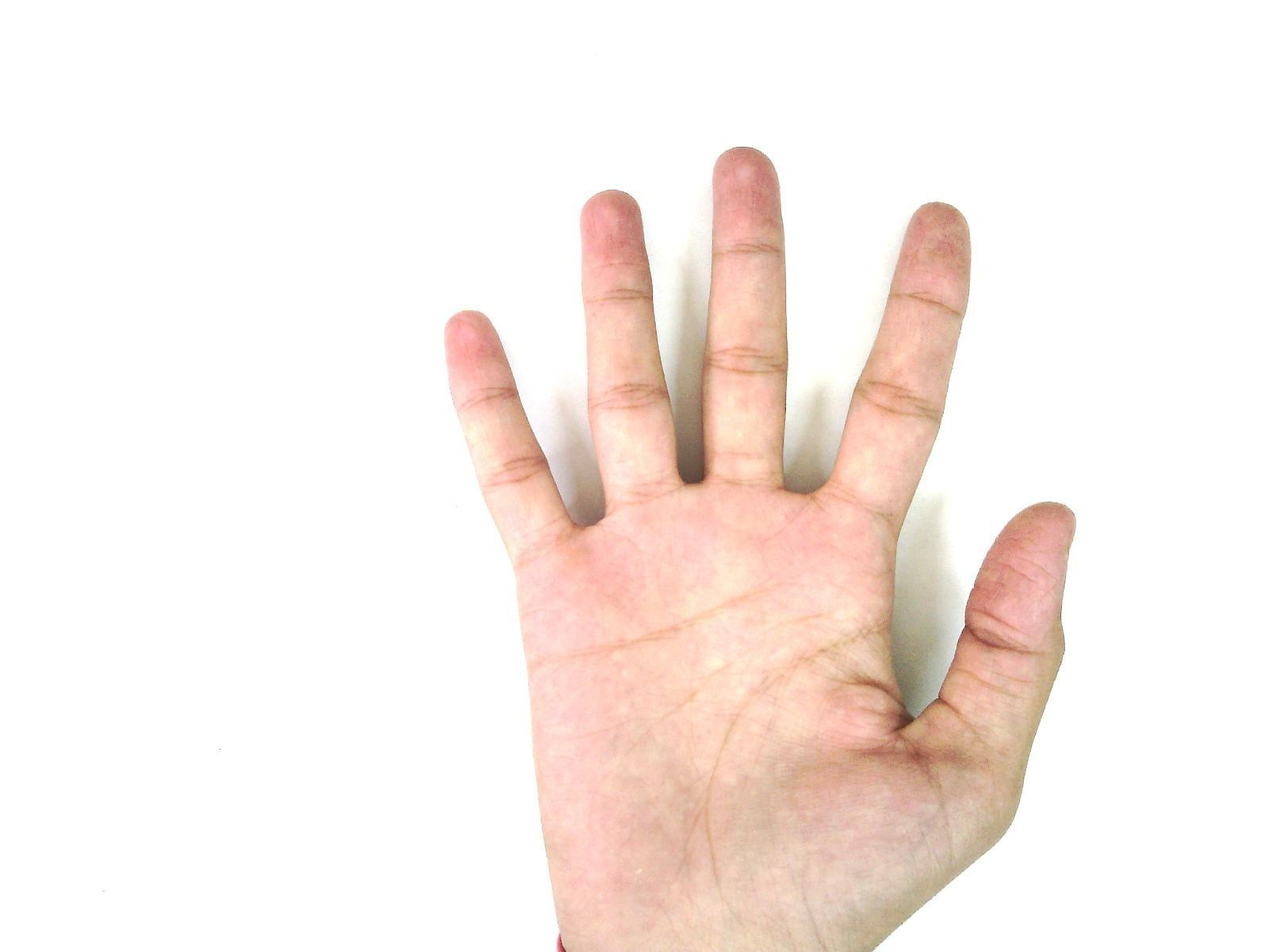open_palm: (440, 145, 1079, 951)
